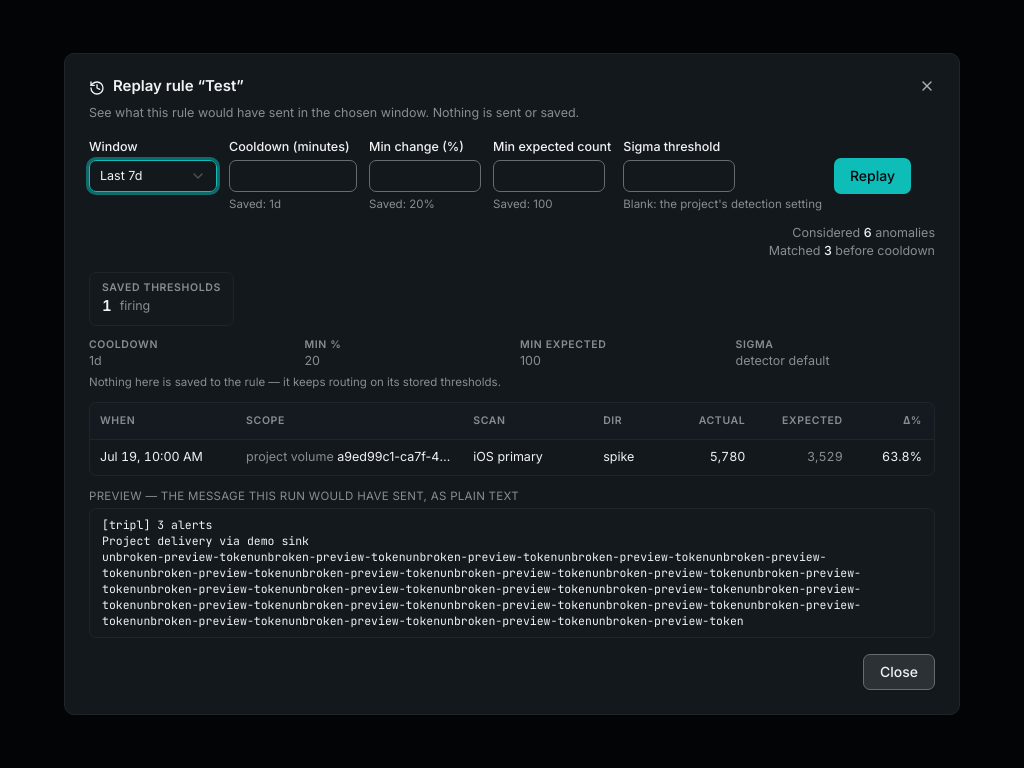
Test: RuleReplayDialog threshold overrides › replays a stricter Min % against the saved run without writing it to the rule
This screenshot has width=1024, height=768.
Expected: the text "Saved thresholds" is shown, [102,281,221,295]
Type "300" into the number field labelled "Min change (%)" at (425, 176), box [369,160,481,192]
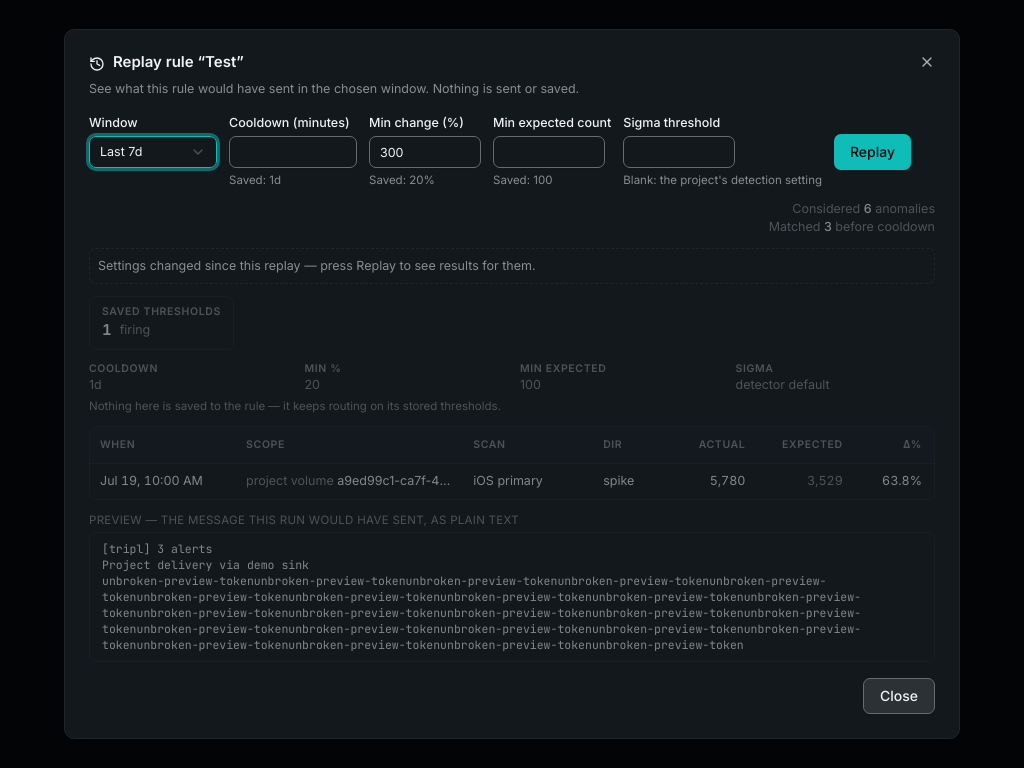
Click the button "Replay" at (873, 152), box [834,134,911,170]
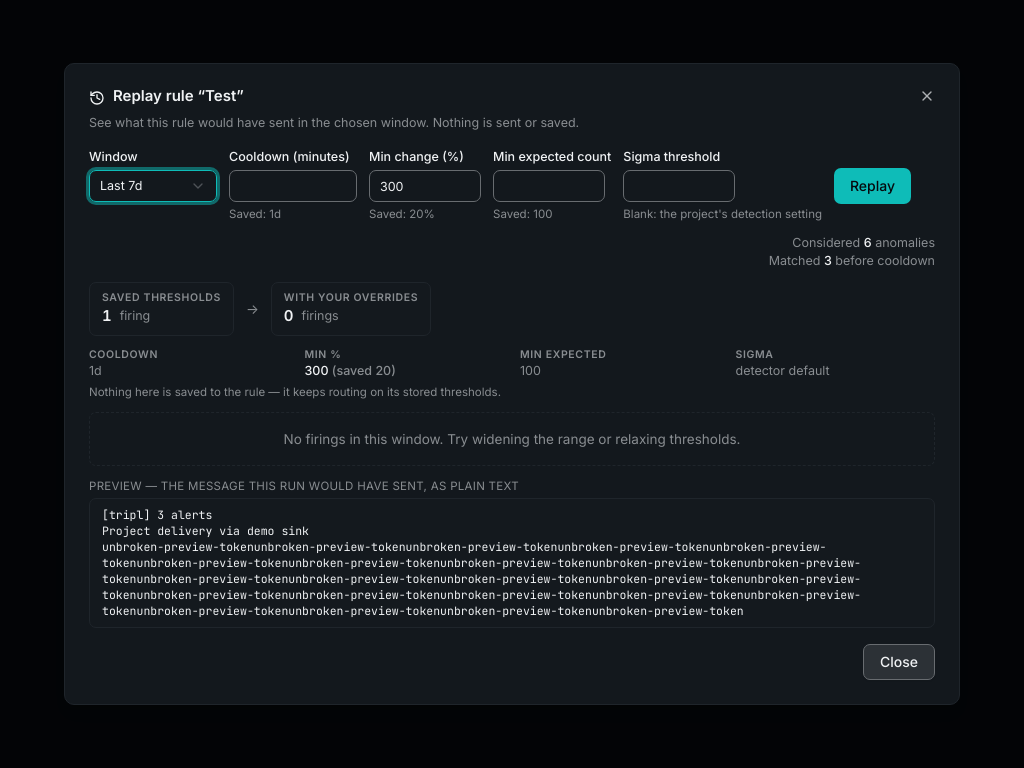
Expected: the text "Saved thresholds" is shown, [102,291,221,305]
Expected: the text "With your overrides" is shown, [284,291,418,305]
Expected: the text "(saved 20)" is shown, [328,363,396,378]
